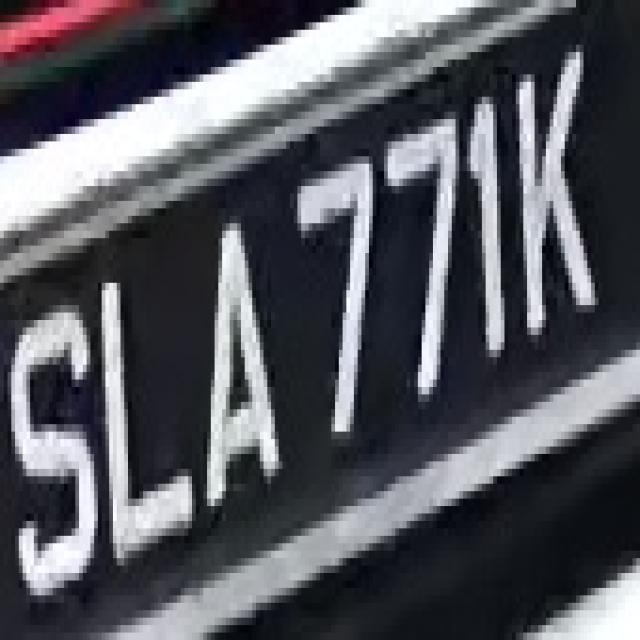1: (452, 89, 516, 387)
7: (286, 149, 384, 446), (380, 119, 471, 432)
A: (188, 178, 286, 528)
K: (512, 22, 595, 350)
L: (101, 268, 196, 551)
S: (4, 283, 109, 610)
